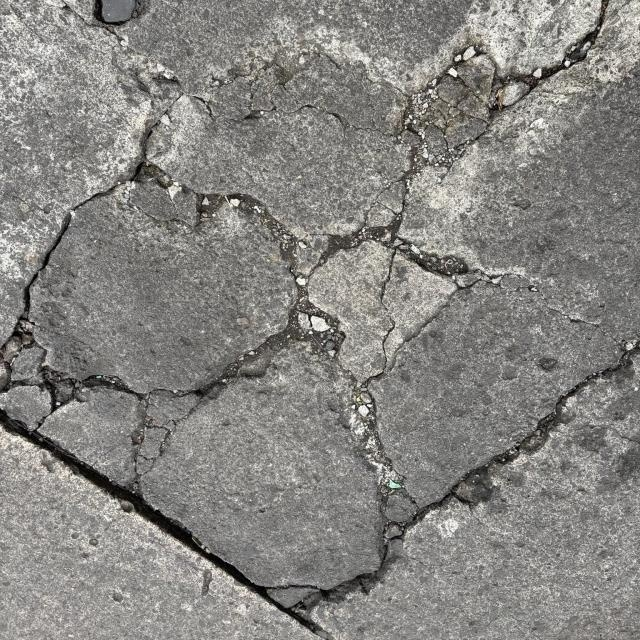pothole: (36, 187, 508, 622)
